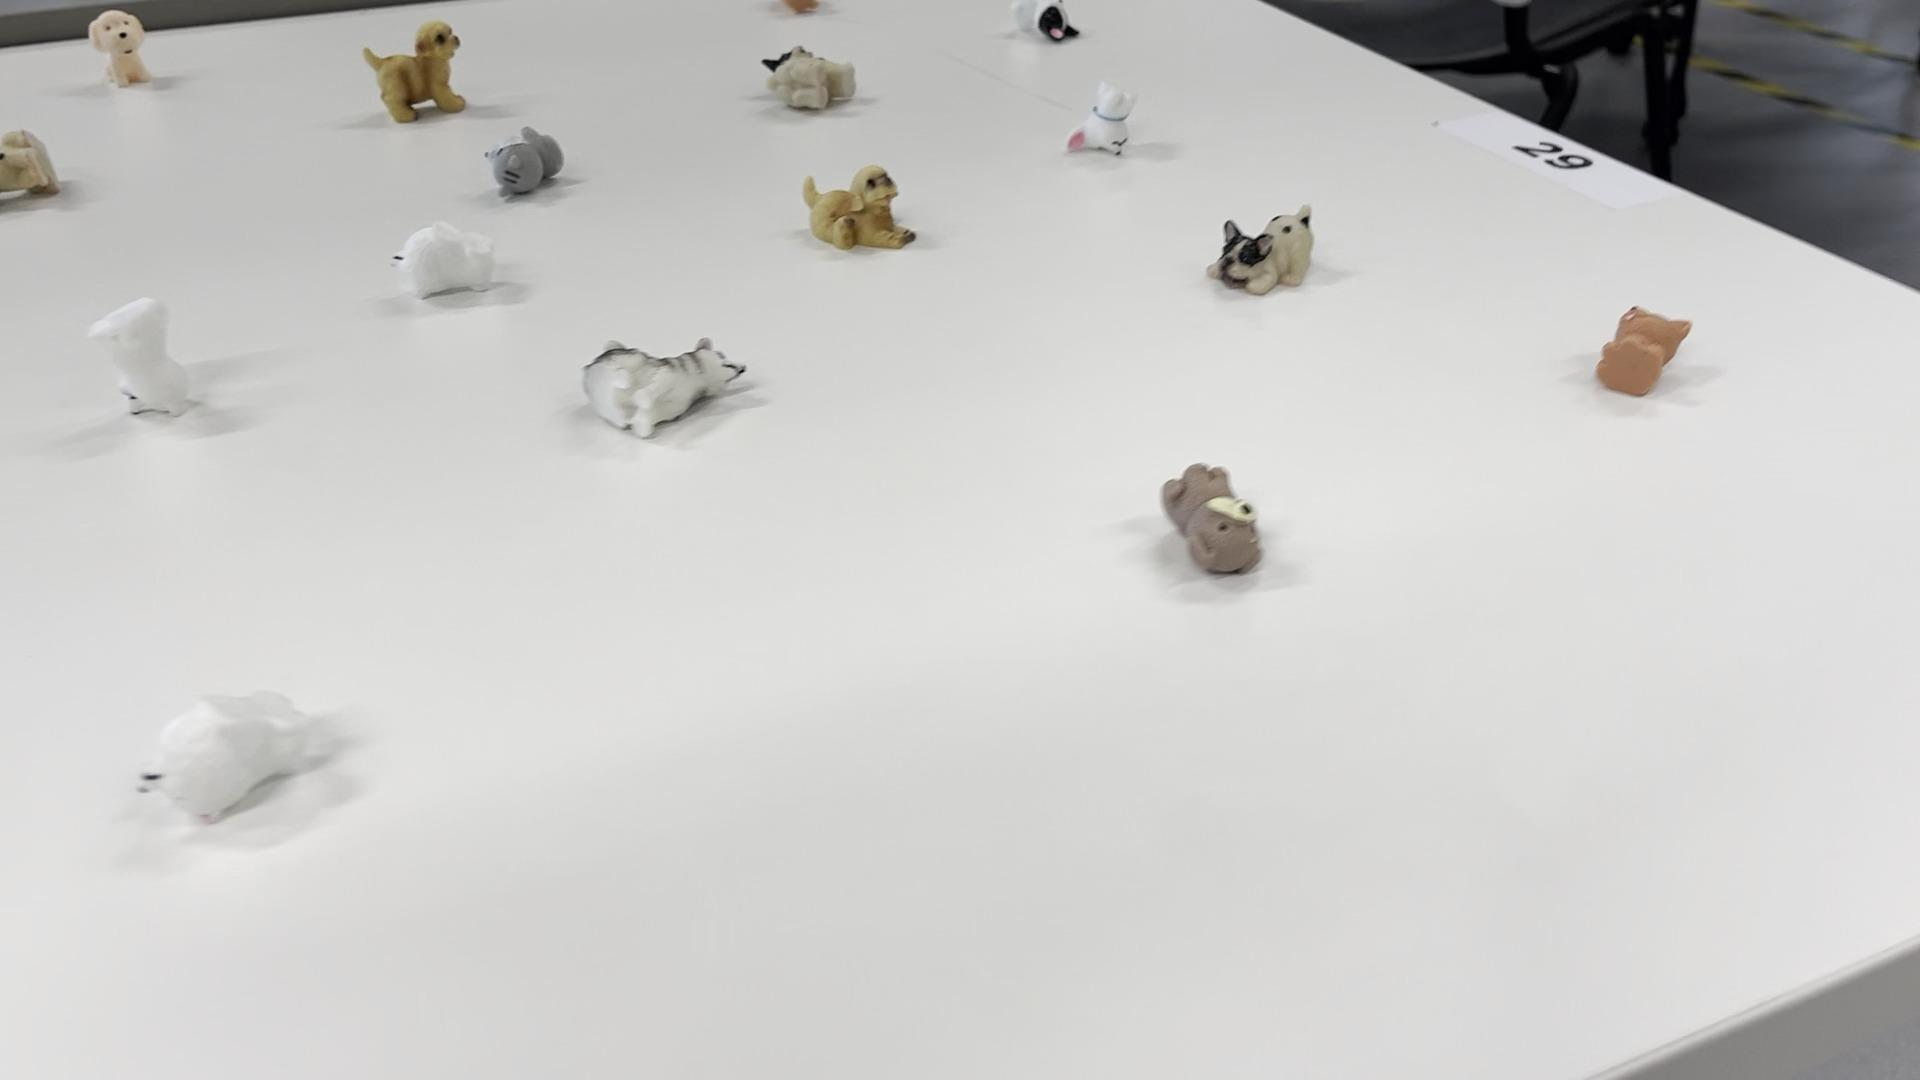pet: (137, 644, 344, 836), (564, 328, 748, 455), (1145, 438, 1275, 589), (80, 299, 222, 429), (1207, 198, 1341, 302), (1589, 293, 1708, 406), (381, 206, 508, 302), (368, 18, 475, 131), (794, 175, 924, 256), (90, 9, 174, 103), (483, 120, 578, 202), (758, 40, 865, 112), (1065, 78, 1147, 169), (920, 0, 1084, 42), (0, 121, 67, 208)
